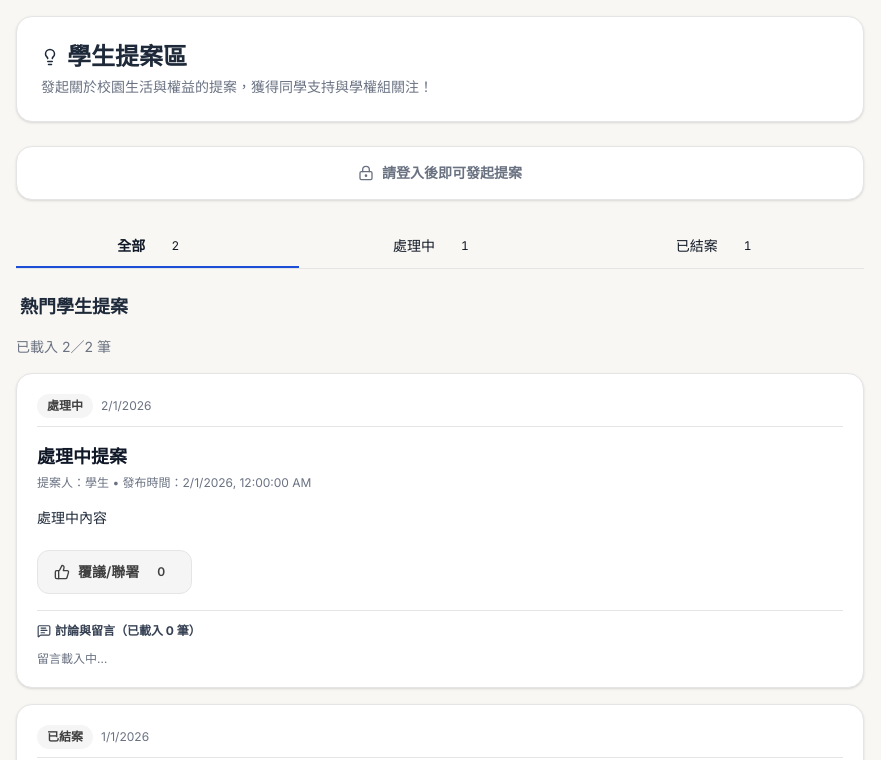
Test: renders and scrolls an off-tab card through a public read when the hash changes
Expected: the tab "全部 2" is shown, [16,224,299,268]
Click the tab "處理中 1" at x=414, y=246, box [299,224,581,268]
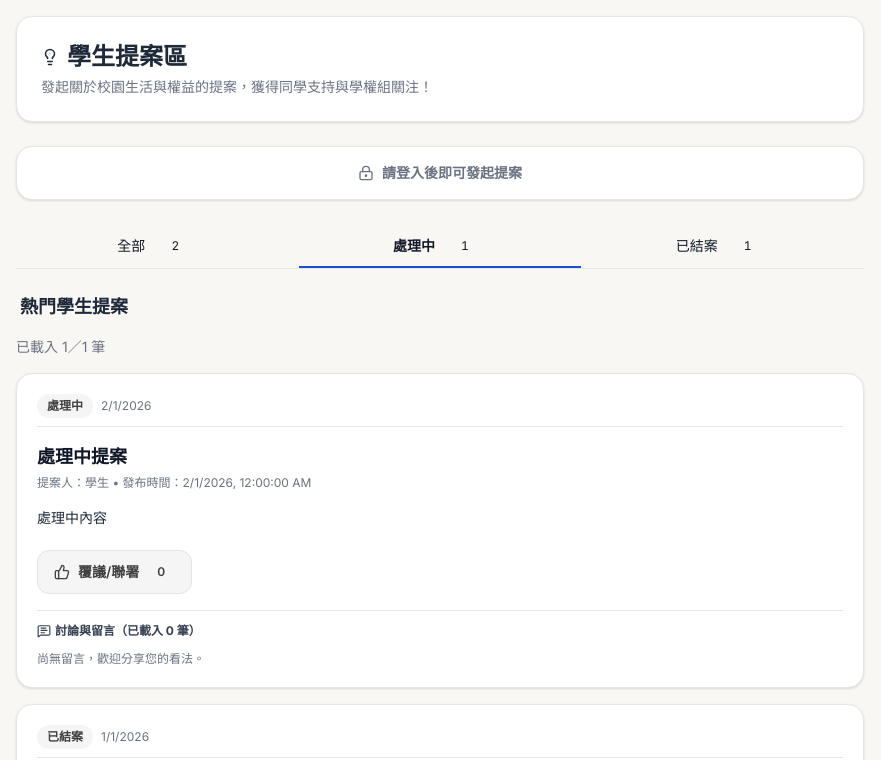
Now the text "已載入 1／1 筆" is shown, box [16,338,105,355]
